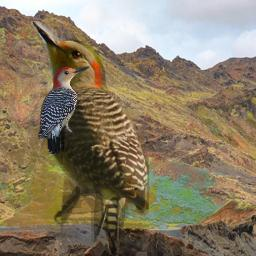Woodpecker: (31, 21, 149, 251), (38, 66, 90, 154)
